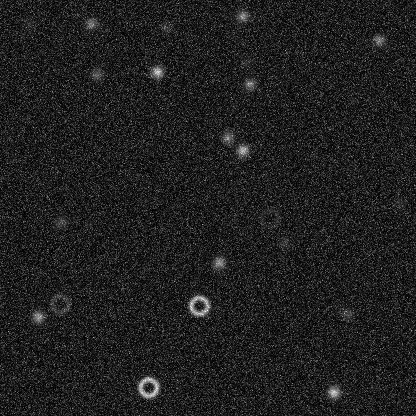Ring: (257, 206, 281, 230), (47, 291, 71, 315), (136, 375, 160, 399), (187, 293, 211, 317)
Spot: (241, 75, 257, 91), (339, 305, 355, 321), (234, 8, 250, 24), (219, 129, 235, 145), (210, 254, 226, 270), (234, 142, 250, 158), (21, 14, 37, 30), (149, 63, 165, 79), (238, 54, 254, 70), (325, 384, 341, 400), (83, 15, 99, 31), (88, 66, 104, 82), (53, 214, 69, 230), (30, 308, 46, 324), (391, 194, 407, 210), (371, 32, 387, 48), (276, 234, 292, 250), (158, 20, 174, 36)
